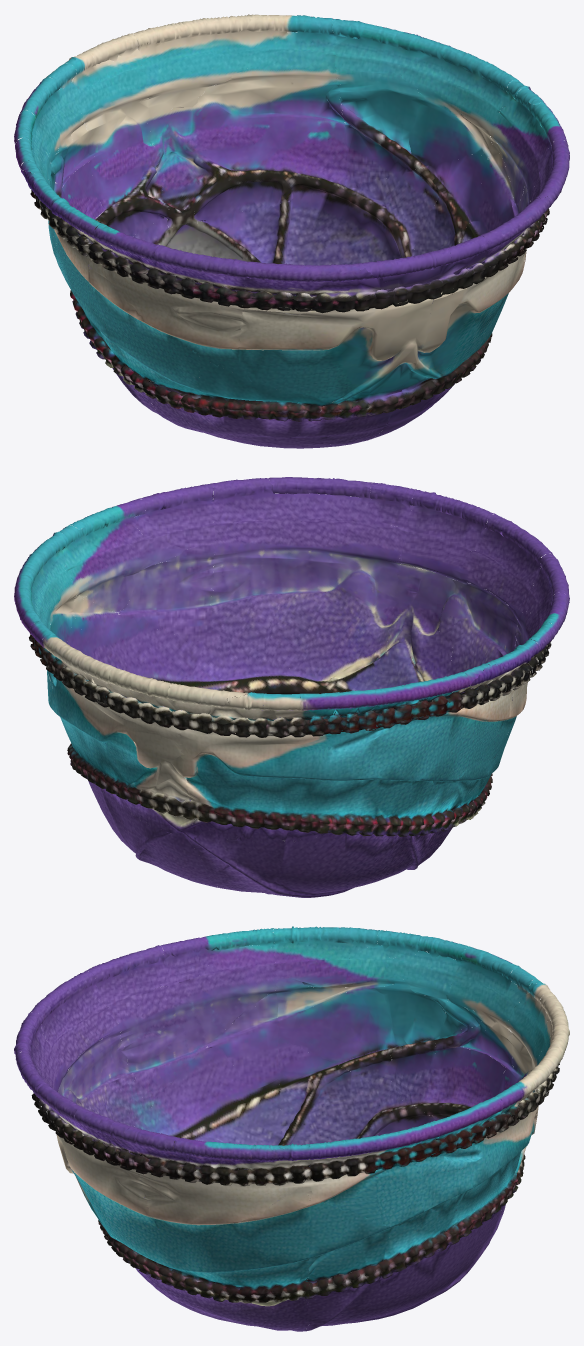
File: imnisi-basket-final.glb
3 views of the same model, one above another, from view 1: azimuth 30°, elevation 25°; view 2: azimuth 150°, elevation 25°; view 3: azimuth 270°, elevation 25° (orthographic). The views are drawn at different scales.
Parts seen in each view (by area): view 1: tripo_node_f1e5a183-6bc2-48cc-afc8-a07508d836e8; view 2: tripo_node_f1e5a183-6bc2-48cc-afc8-a07508d836e8; view 3: tripo_node_f1e5a183-6bc2-48cc-afc8-a07508d836e8.
Part boxes in pixels (x1=…): tripo_node_f1e5a183-6bc2-48cc-afc8-a07508d836e8: x1=14, y1=14, x2=569, y2=448; tripo_node_f1e5a183-6bc2-48cc-afc8-a07508d836e8: x1=14, y1=477, x2=569, y2=897; tripo_node_f1e5a183-6bc2-48cc-afc8-a07508d836e8: x1=14, y1=926, x2=569, y2=1331.
Size of the model in its own units: 0.2749 by 0.1524 by 0.2867.
Materials: 1 (1 with a texture image).
